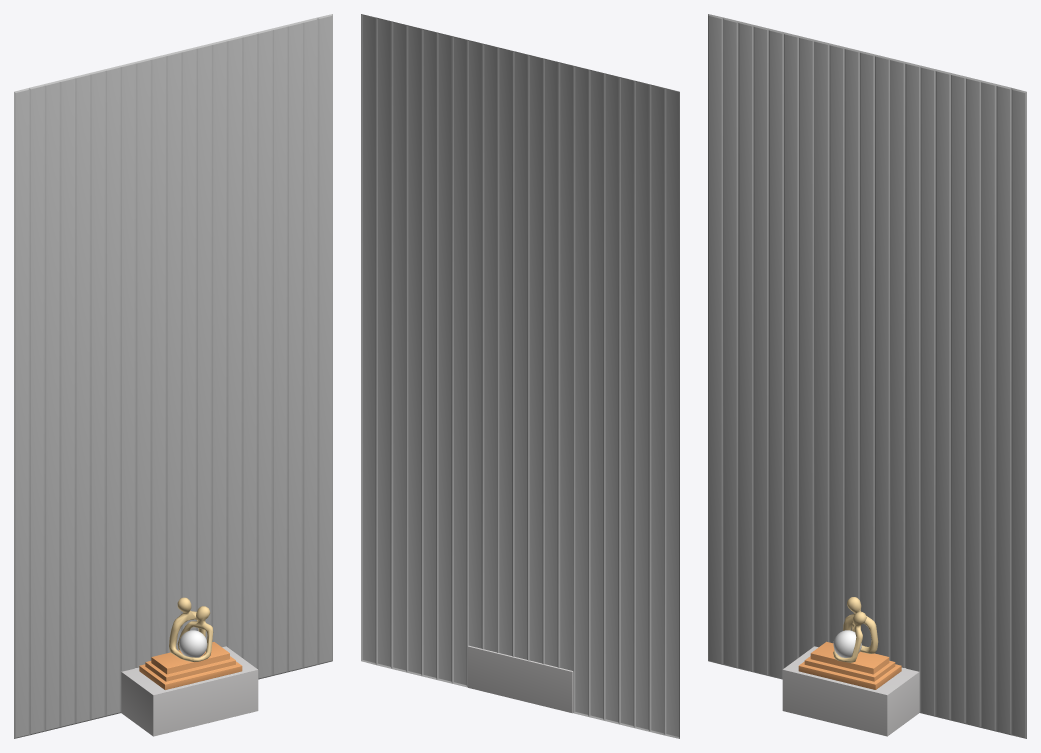
File: Looby Sculpture.fbx
3 views of the same model, side by side, from view 1: azimuth 30°, elevation 25°; view 2: azimuth 150°, elevation 25°; view 3: azimuth 330°, elevation 25° (orthographic).
Visible parts, largest first — view 1: Plane; view 2: Plane; view 3: Plane.
Part boxes in pixels (x1,y1,x2,y2): Plane: (14, 14, 332, 738); Plane: (361, 14, 679, 738); Plane: (708, 14, 1026, 738).
Bounding box in the file's own units: 3.44 × 6.68 × 0.6156.
